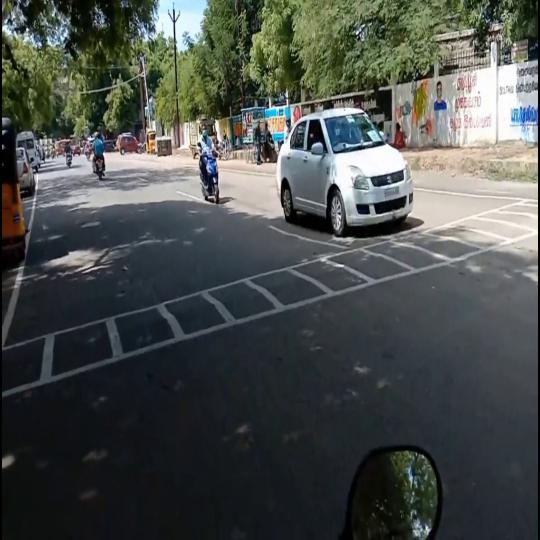Speed Bump: (1, 239, 388, 393), (410, 199, 538, 279)
